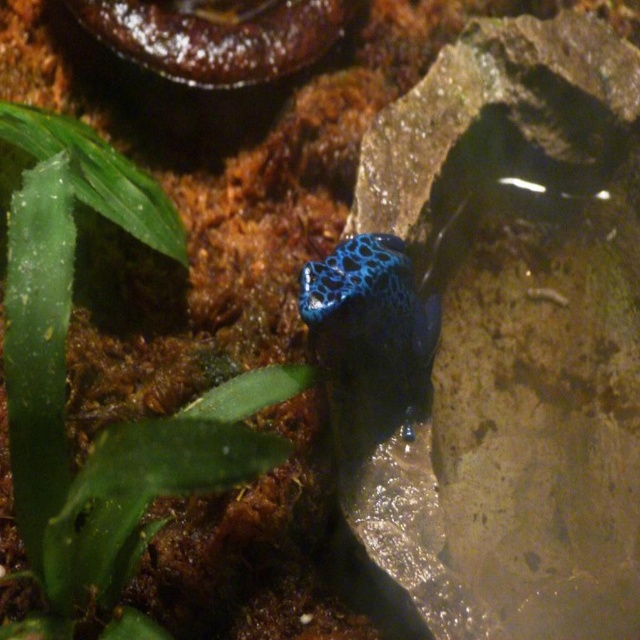Frog: (296, 231, 444, 443)
